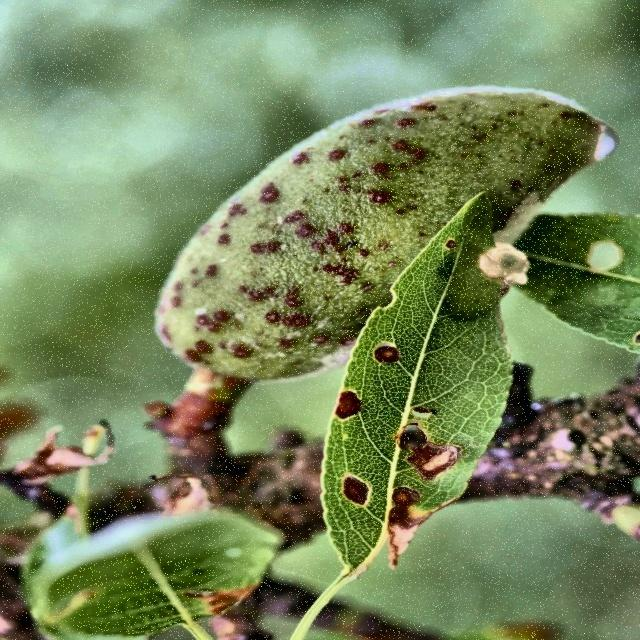leaf_spot: (140, 76, 456, 393), (223, 273, 539, 590)
